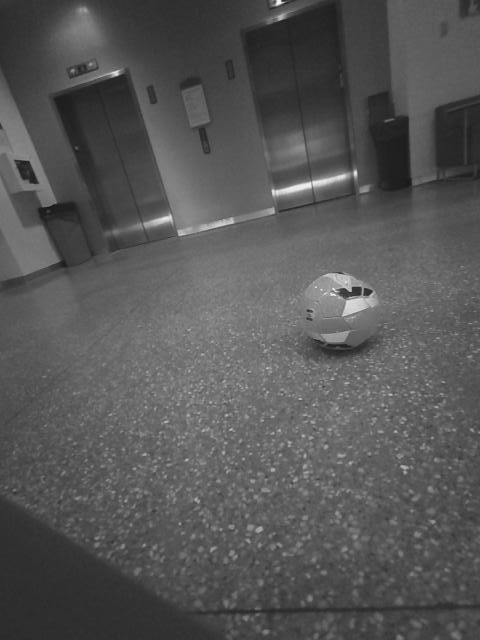ball: (288, 265, 393, 353)
